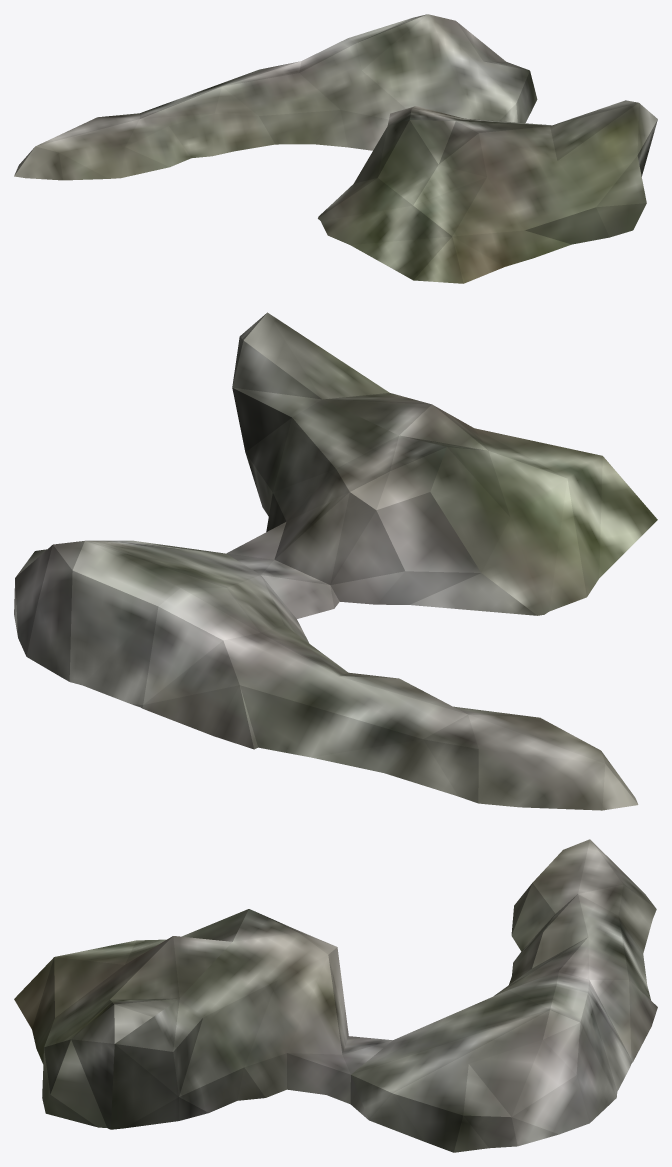
The picture shows the model from 3 angles, top to bottom: view 1: azimuth 30°, elevation 25°; view 2: azimuth 150°, elevation 25°; view 3: azimuth 270°, elevation 25°; orthographic projection. The views are drawn at different scales.
Bounding box in the file's own units: 0.9188 × 0.187 × 0.8429.
1 material, 1 textured.
